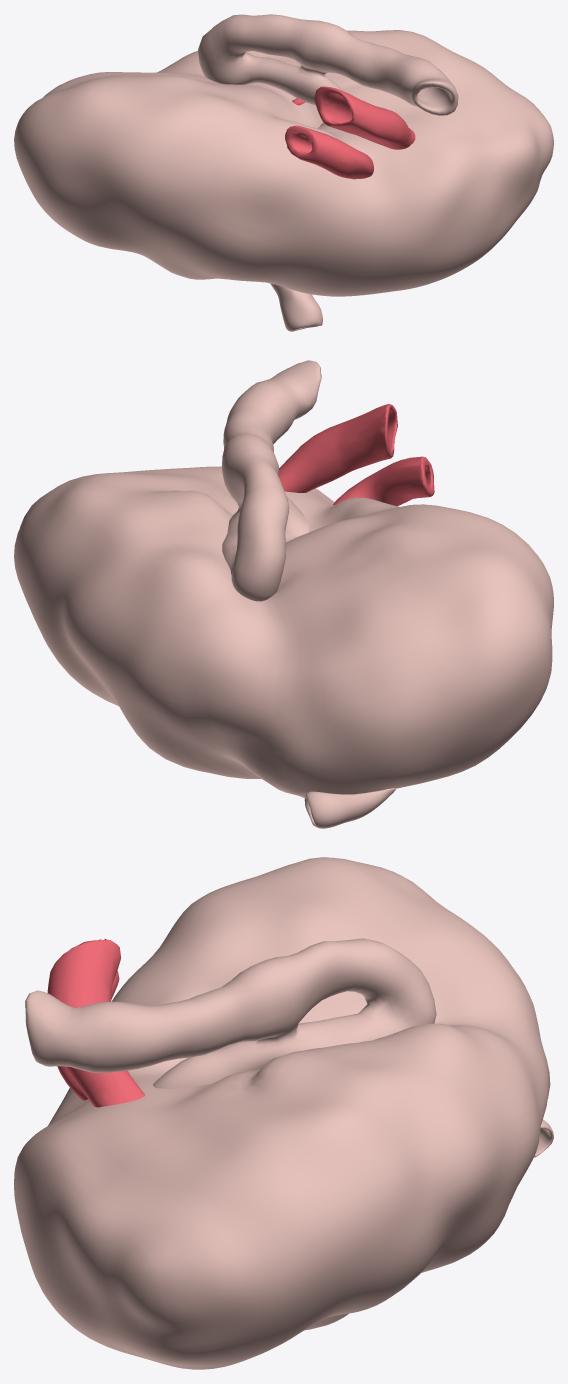
The model's file is hra-lymph-node-male-v1.glb.
3 views of the same model, one above another, from view 1: azimuth 30°, elevation 25°; view 2: azimuth 150°, elevation 25°; view 3: azimuth 270°, elevation 25° (orthographic). The views are drawn at different scales.
Visible parts, largest first — view 1: Yao_capsule_of_lymph_node, Yao_efferent_lymph_node, Yao_blood_vasculature, Yao_afferent_lymphatic_vessel; view 2: Yao_capsule_of_lymph_node, Yao_efferent_lymph_node, Yao_blood_vasculature, Yao_afferent_lymphatic_vessel; view 3: Yao_capsule_of_lymph_node, Yao_efferent_lymph_node, Yao_blood_vasculature.
Boxes of the visible parts, x1=… form: Yao_capsule_of_lymph_node: x1=14, y1=30, x2=553, y2=296; Yao_efferent_lymph_node: x1=198, y1=14, x2=458, y2=132; Yao_blood_vasculature: x1=285, y1=86, x2=415, y2=179; Yao_afferent_lymphatic_vessel: x1=270, y1=283, x2=322, y2=331; Yao_capsule_of_lymph_node: x1=14, y1=466, x2=553, y2=797; Yao_efferent_lymph_node: x1=222, y1=360, x2=321, y2=601; Yao_blood_vasculature: x1=279, y1=404, x2=434, y2=506; Yao_afferent_lymphatic_vessel: x1=304, y1=788, x2=396, y2=828; Yao_capsule_of_lymph_node: x1=14, y1=857, x2=550, y2=1369; Yao_efferent_lymph_node: x1=25, y1=938, x2=436, y2=1088; Yao_blood_vasculature: x1=47, y1=939, x2=145, y2=1107.
Bounding box in the file's own units: 0.0183 × 0.0107 × 0.013.
